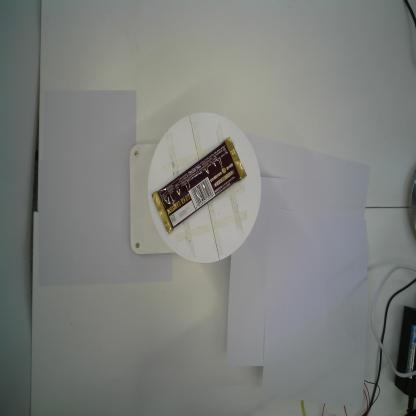Chocolate: (151, 136, 247, 236)
